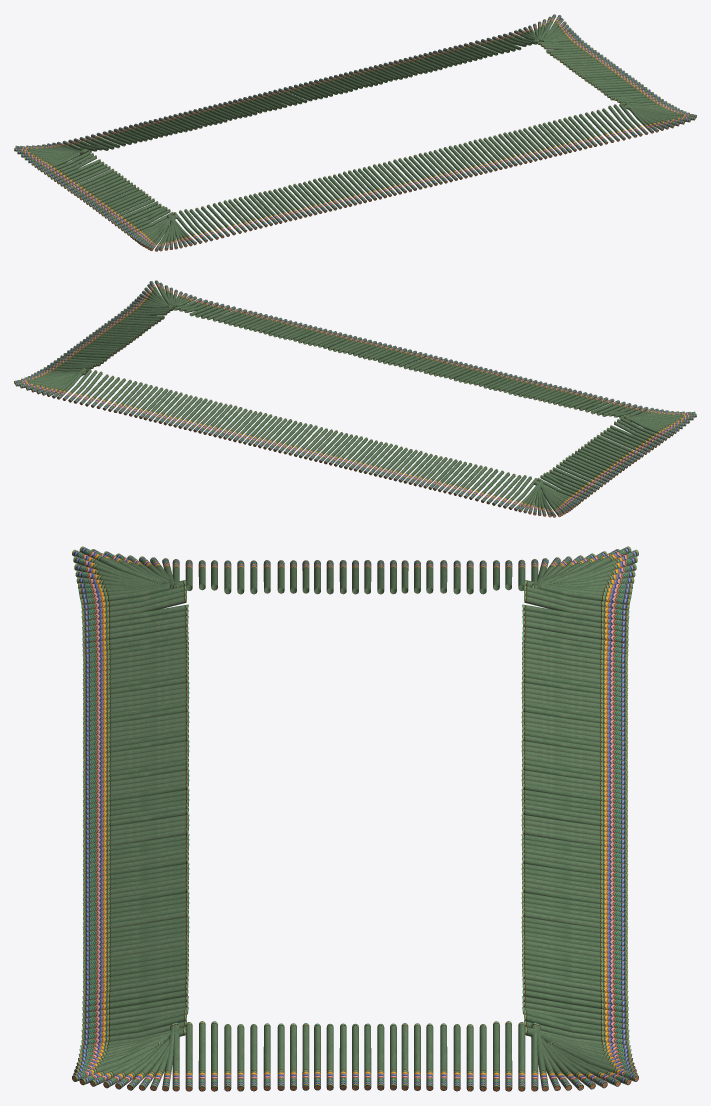
The model's file is SM_Seokkalae05C.fbx.
The picture shows the model from 3 angles, top to bottom: view 1: azimuth 30°, elevation 25°; view 2: azimuth 150°, elevation 25°; view 3: azimuth 270°, elevation 25°; orthographic projection. The views are drawn at different scales.
Visible parts, largest first — view 1: SM_Seokkalae05C; view 2: SM_Seokkalae05C; view 3: SM_Seokkalae05C.
Part boxes in pixels (x1,y1,x2,y2): SM_Seokkalae05C: [14, 14, 696, 251]; SM_Seokkalae05C: [14, 280, 696, 517]; SM_Seokkalae05C: [72, 546, 638, 1091].
Size of the model in its own units: 3042 by 1364 by 71.24.
